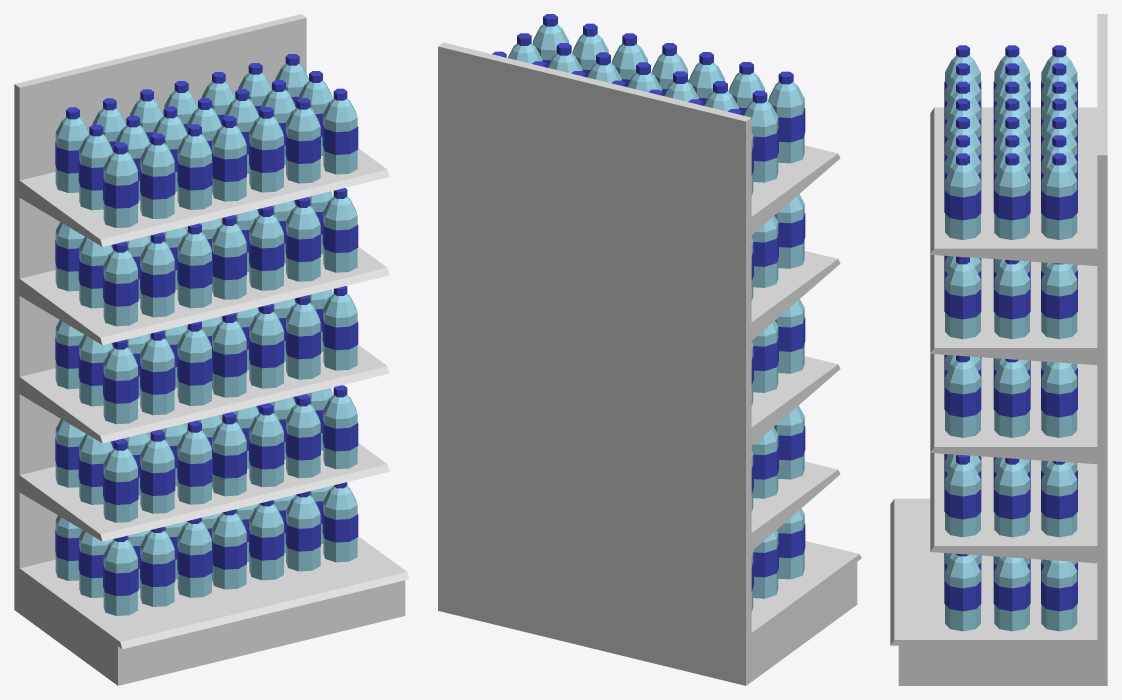
Rendered from BottleAisle.fbx.
3 views of the same model, side by side, from view 1: azimuth 30°, elevation 25°; view 2: azimuth 150°, elevation 25°; view 3: azimuth 270°, elevation 25° (orthographic). The views are drawn at different scales.
Visible parts, largest first — view 1: Shelf; view 2: Shelf; view 3: Shelf.
Boxes of the visible parts, x1=… form: Shelf: x1=14, y1=14, x2=409, y2=685; Shelf: x1=438, y1=14, x2=861, y2=685; Shelf: x1=890, y1=14, x2=1107, y2=685.
Size of the model in its own units: 400 by 700 by 260.
